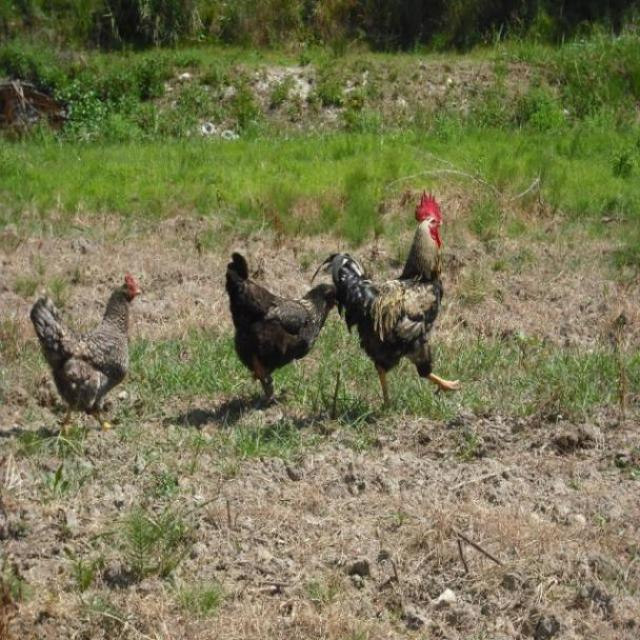Chicken: (307, 185, 459, 415), (221, 249, 342, 408), (28, 271, 143, 438)
